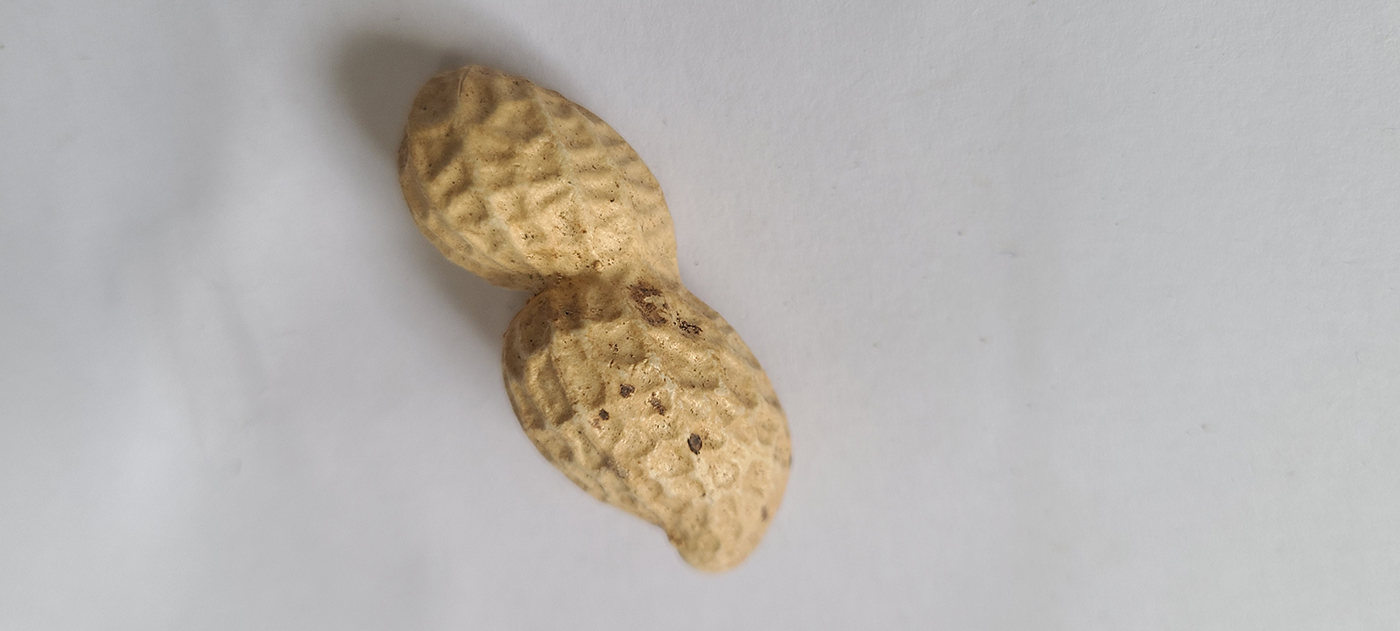h: (396, 62, 796, 574)
